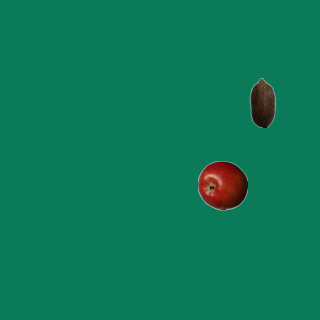Apple Braeburn: (197, 160, 247, 210)
Nut Pecan: (237, 77, 287, 127)
